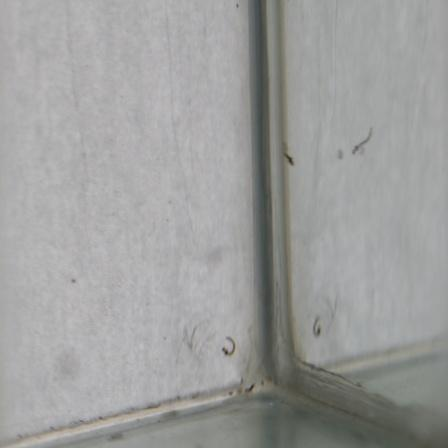Jentik-Nyamuk: (278, 138, 298, 171), (217, 332, 239, 361)
